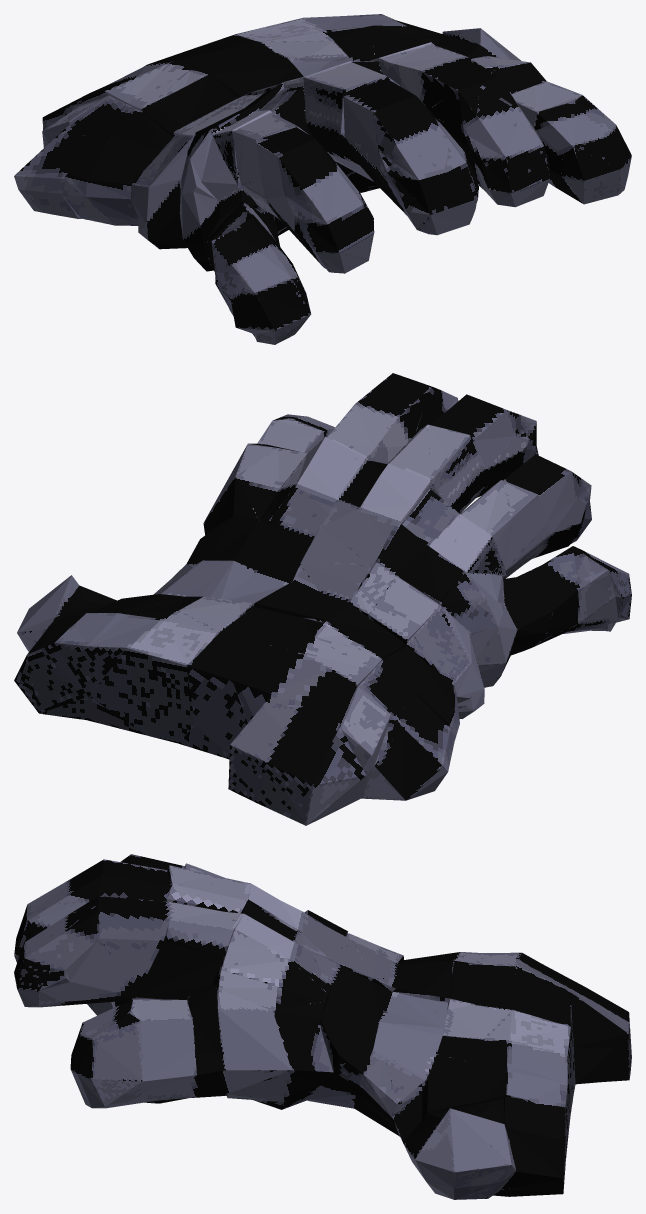
3 renders of one model, top to bottom at view 1: azimuth 30°, elevation 25°; view 2: azimuth 150°, elevation 25°; view 3: azimuth 270°, elevation 25°, orthographic. The views are drawn at different scales.
Visible parts, largest first — view 1: OBJ027; view 2: OBJ027; view 3: OBJ027.
Part boxes in pixels (left/top/right/bottom): OBJ027: left=14, top=14, right=631, bottom=344; OBJ027: left=14, top=373, right=631, bottom=825; OBJ027: left=14, top=854, right=631, bottom=1199.
Size of the model in its own units: 0.3346 by 0.1598 by 0.3856.
Materials: 1 (1 with a texture image).
